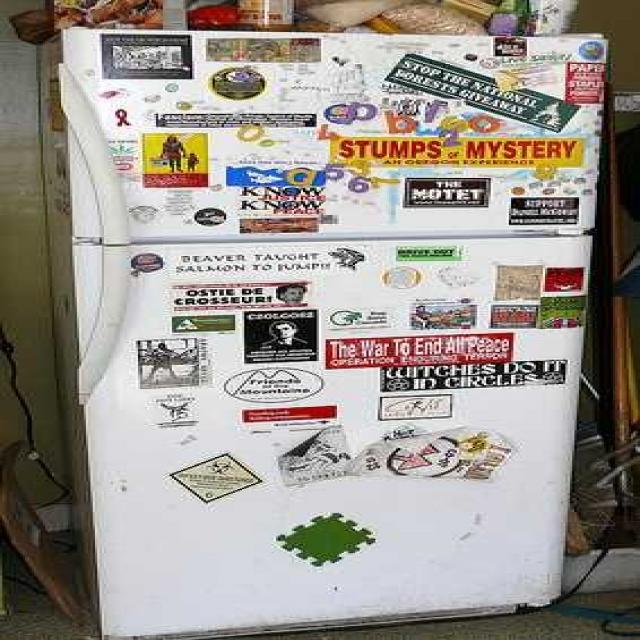refrigerator: (60, 24, 598, 635)
